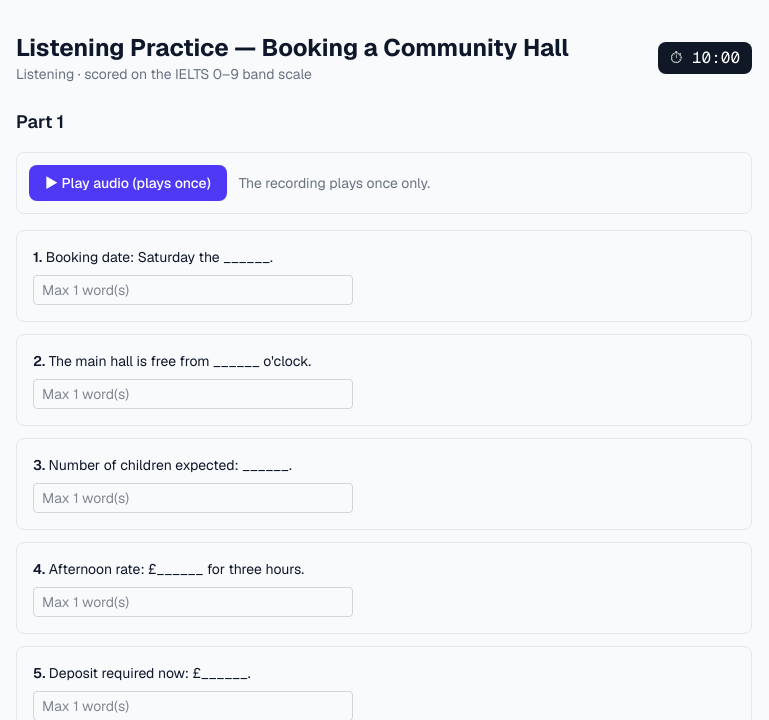
Scenario: ListeningRunner › plays audio, scores on submit, and reveals the transcript in review
expect the heading "Listening Practice — Booking a Community Hall" is shown: met, box [16,32,569,64]
expect the text "Riverside Community Centre" is not shown: met
Click the button "▶ Play audio (plays once)" at (128,183), box [29,165,227,201]
(page scrolled)
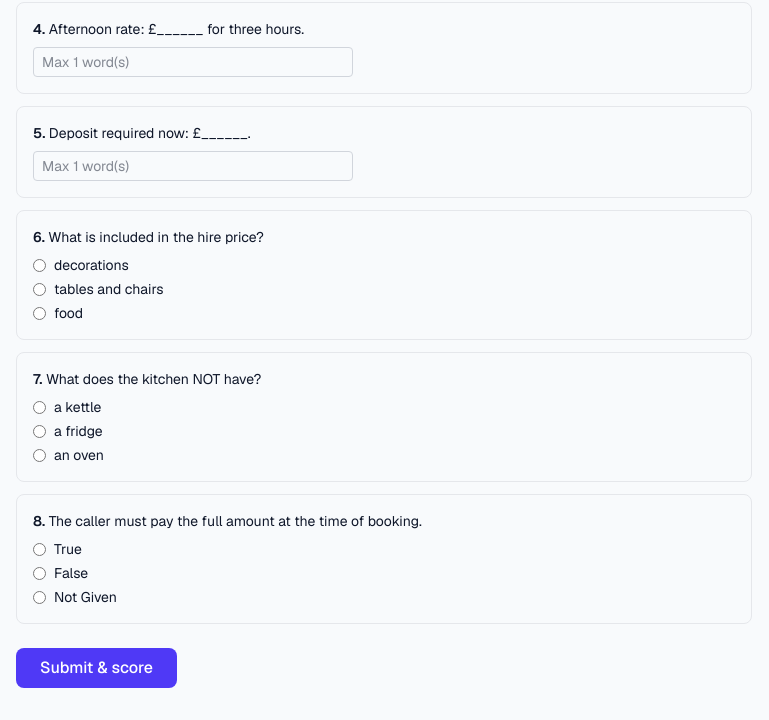
Click the button "Submit & score" at (96,668), box [16,648,177,688]
(page scrolled)
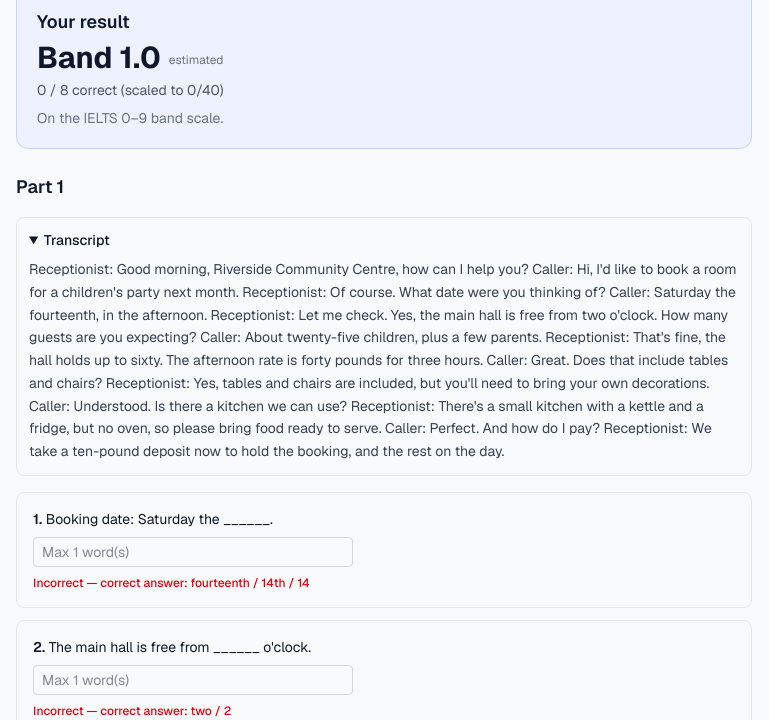
expect the heading "Your result" is shown: met, box [37,10,130,33]
expect the text "Riverside Community Centre" is shown: met, box [29,260,736,460]
